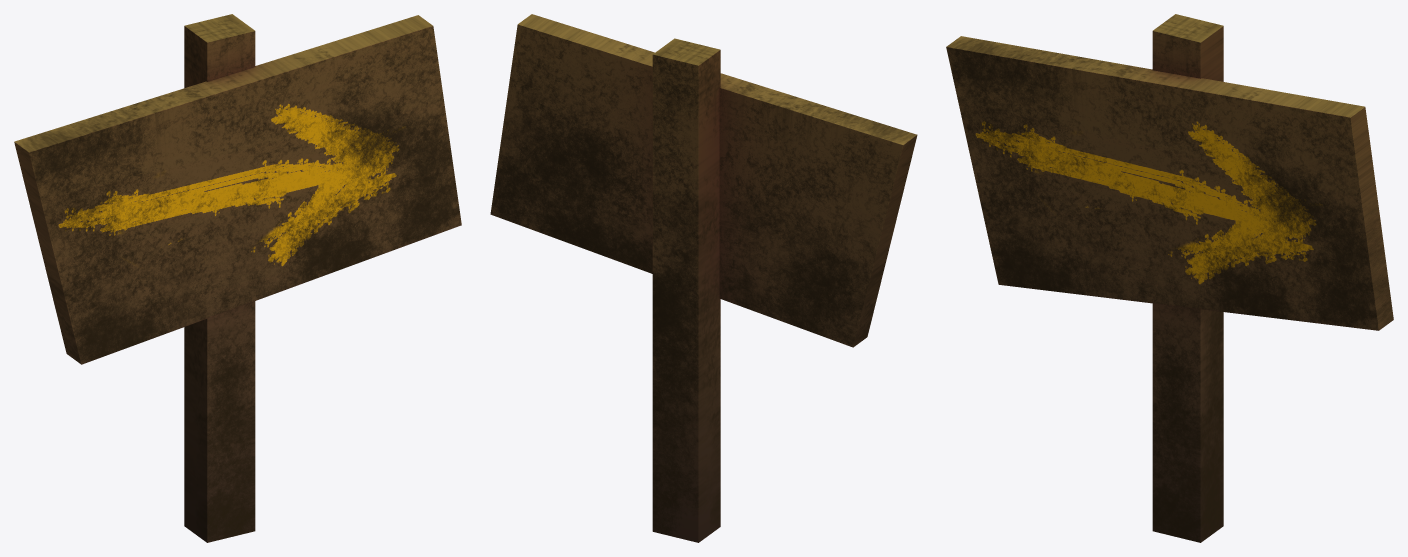
Rendered from Signboard2.glb.
3 views of the same model, side by side, from view 1: azimuth 30°, elevation 25°; view 2: azimuth 150°, elevation 25°; view 3: azimuth 330°, elevation 25° (orthographic). The views are drawn at different scales.
Visible parts, largest first — view 1: pCube6; view 2: pCube6; view 3: pCube6.
Boxes of the visible parts, x1,y1,x2,y2 form: pCube6: (14, 14, 461, 542); pCube6: (490, 14, 917, 542); pCube6: (946, 14, 1393, 542).
Bounding box in the file's own units: 1.02 × 1.12 × 0.151.
1 material, 1 textured.
